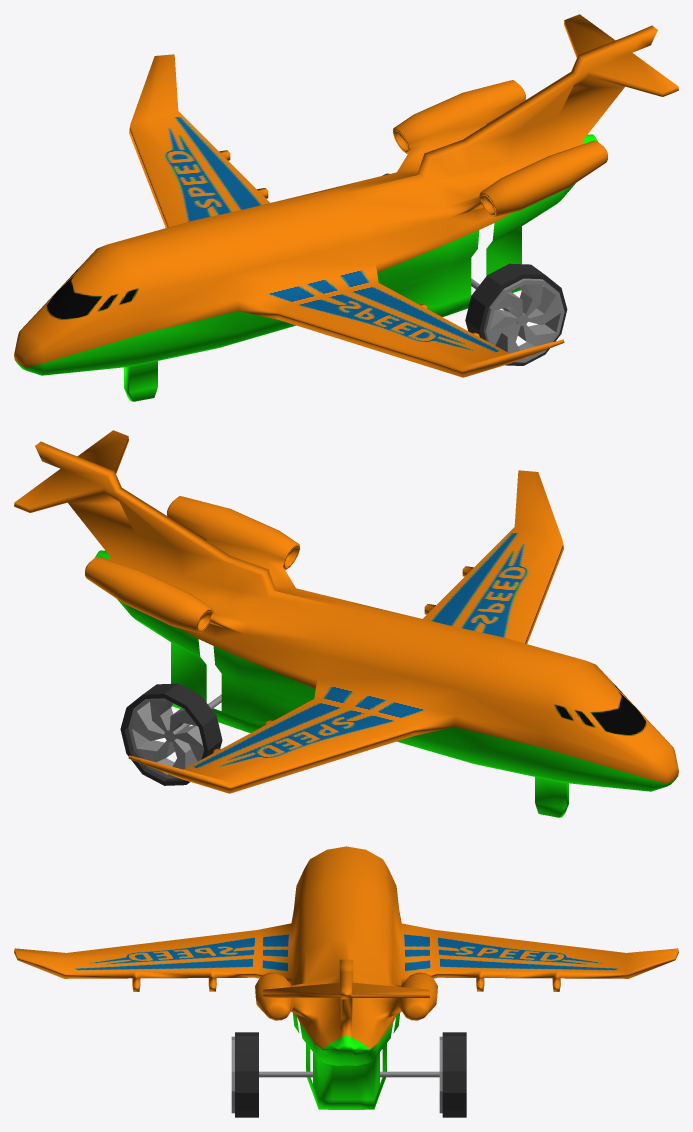
File: boeing8.glb
3 views of the same model, one above another, from view 1: azimuth 30°, elevation 25°; view 2: azimuth 150°, elevation 25°; view 3: azimuth 270°, elevation 25° (orthographic). The views are drawn at different scales.
Parts seen in each view (by area): view 1: AVIAO, roda, pneu; view 2: AVIAO, roda, pneu; view 3: AVIAO, pneu, roda.
Part boxes in pixels (left/top/right/bottom): AVIAO: left=14, top=14, right=678, bottom=401; roda: left=471, top=278, right=564, bottom=362; pneu: left=382, top=173, right=567, bottom=365; AVIAO: left=14, top=430, right=678, bottom=817; roda: left=128, top=694, right=221, bottom=778; pneu: left=120, top=683, right=222, bottom=785; AVIAO: left=14, top=846, right=678, bottom=1109; pneu: left=235, top=1032, right=466, bottom=1117; roda: left=231, top=1036, right=442, bottom=1113.
Size of the model in its own units: 11.48 by 4.25 by 12.32.
Materials: 3 (1 with a texture image).
